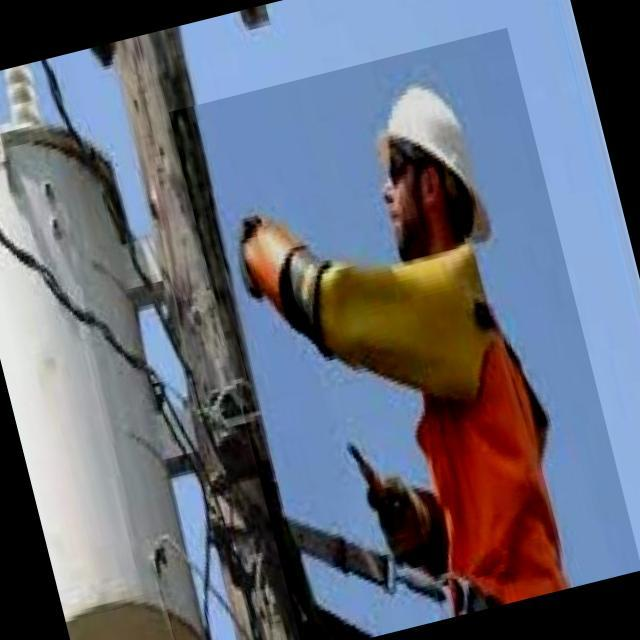Gloves: (232, 200, 357, 375), (332, 420, 460, 588)
Helmet: (364, 72, 500, 264)
Person: (218, 54, 611, 640)
Safety Vest: (314, 228, 588, 615)
